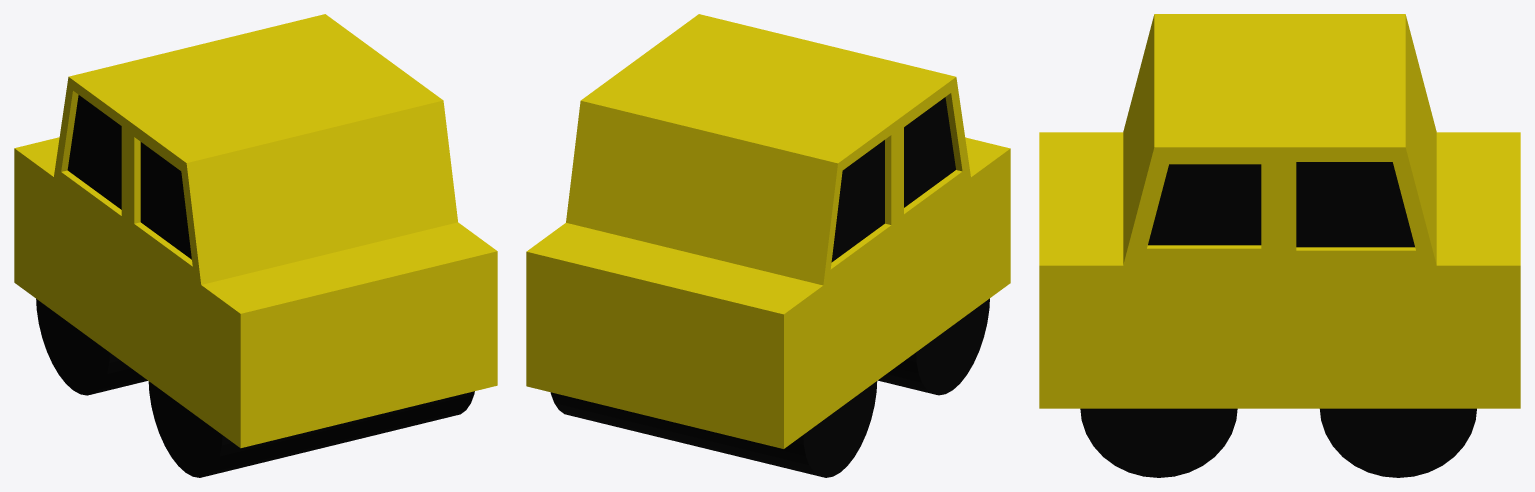
File: low_poly_car.fbx
3 views of the same model, side by side, from view 1: azimuth 30°, elevation 25°; view 2: azimuth 150°, elevation 25°; view 3: azimuth 270°, elevation 25° (orthographic). The views are drawn at different scales.
Parts seen in each view (by area): view 1: Cube, Cylinder, Cylinder.001; view 2: Cube, Cylinder.001, Cylinder; view 3: Cube, Cylinder, Cylinder.001.
Boxes of the visible parts, x1,y1,x2,y2 form: Cube: [14, 14, 497, 448]; Cylinder: [148, 381, 474, 477]; Cylinder.001: [36, 299, 147, 395]; Cube: [526, 14, 1010, 448]; Cylinder.001: [550, 381, 877, 477]; Cylinder: [878, 298, 989, 395]; Cube: [1039, 14, 1520, 408]; Cylinder: [1080, 408, 1237, 477]; Cylinder.001: [1320, 408, 1476, 477].
Bounding box in the file's own units: 400 × 463 × 610.
